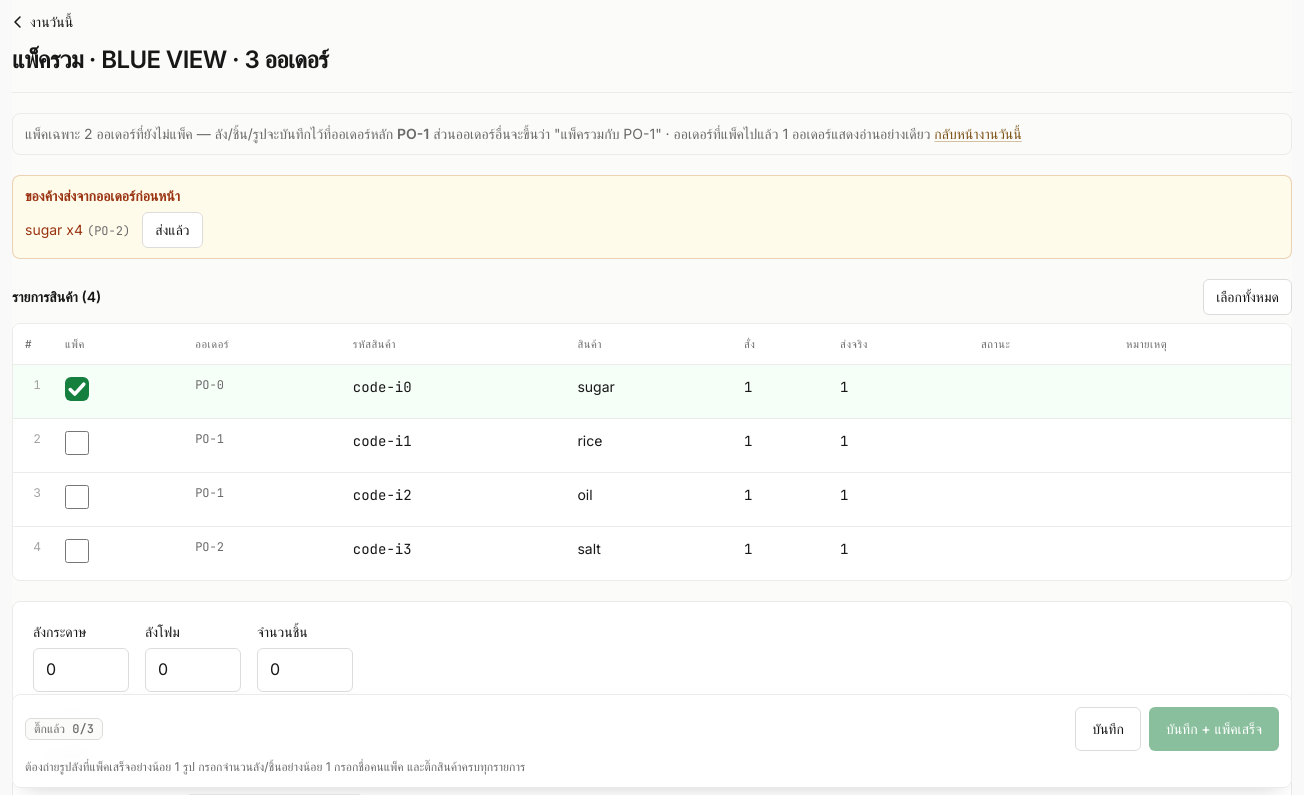
Test: carry-over backorders from every PO show together, tagged with the PO, and can be fulfilled
The width and height of the screenshot is (1304, 795).
Check: the text "sugar x4 (PO-2)" is shown, box x1=25 y1=220 x2=130 y2=240
Check: the text "(PO-2)" is shown, box x1=87 y1=223 x2=130 y2=239
What coordinates should you click on to do the following:
click the button "ส่งแล้ว"
I would click on:
 (172, 230)
Its box is x1=142 y1=212 x2=202 y2=248.
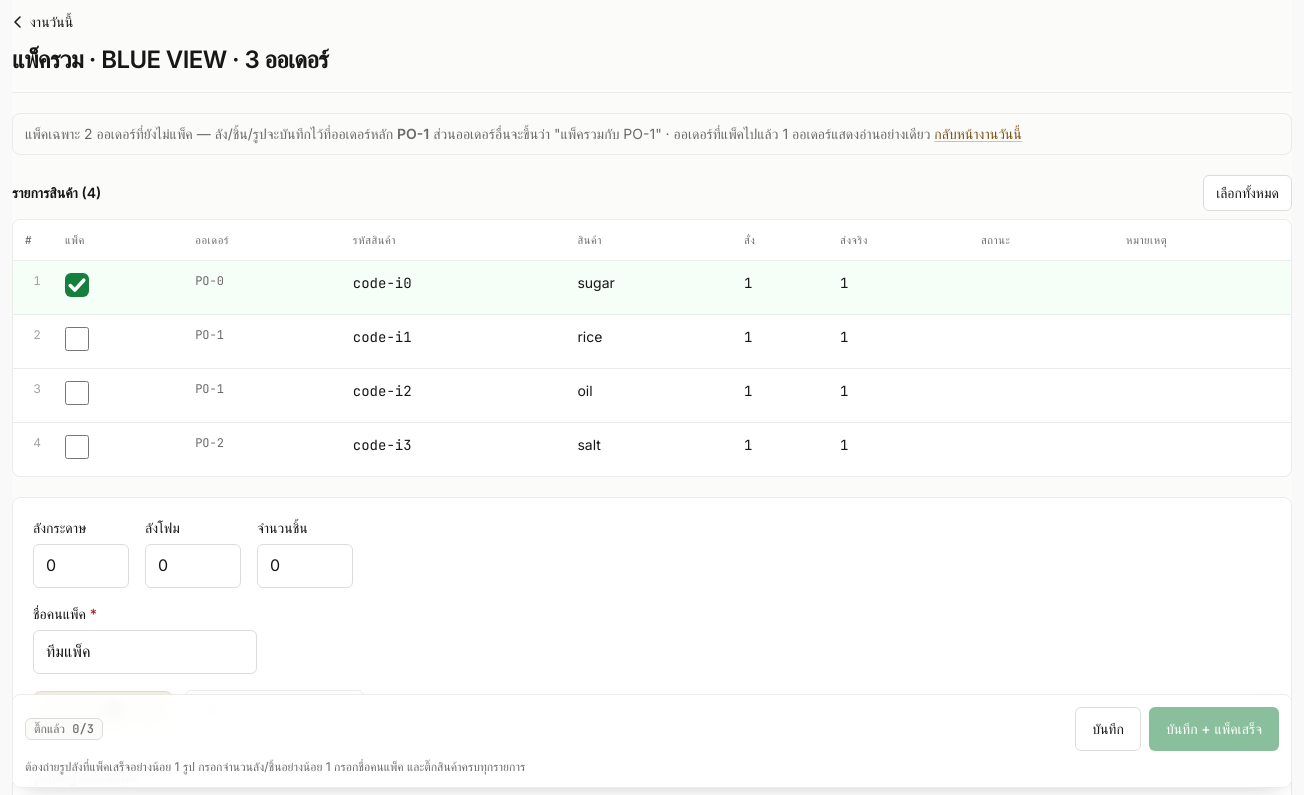
Check: the text "sugar x4" is gone
